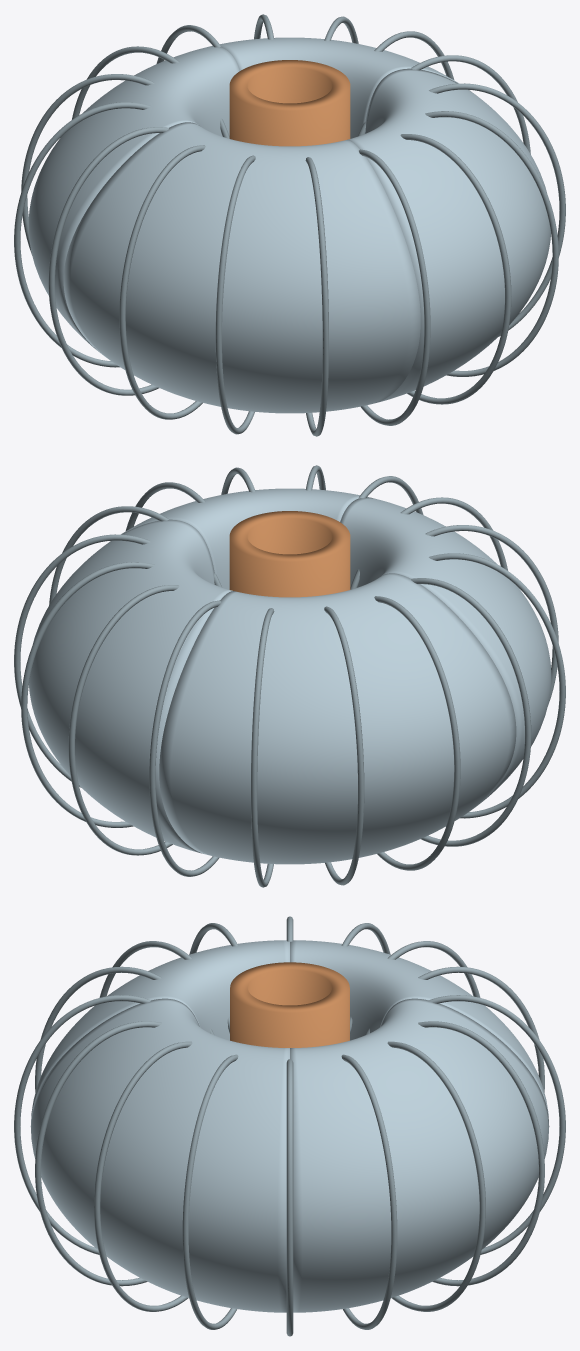
The picture shows the model from 3 angles, top to bottom: view 1: azimuth 30°, elevation 25°; view 2: azimuth 150°, elevation 25°; view 3: azimuth 270°, elevation 25°; orthographic projection.
Visible parts, largest first — view 1: vessel_Q2, vessel_Q3, vessel_Q1, solenoid, vessel_Q0, coils_08, coils_14, coils_13, coils_07, coils_09, coils_12, coils_15 (+7 smaller); view 2: vessel_Q1, vessel_Q0, vessel_Q2, solenoid, vessel_Q3, coils_08, coils_02, coils_03, coils_09, coils_07, coils_04, coils_01 (+7 smaller); view 3: vessel_Q0, vessel_Q3, solenoid, vessel_Q1, vessel_Q2, coils_03, coils_13, coils_02, coils_14, coils_04, coils_12, coils_00 (+6 smaller).
Boxes of the visible parts, box(x1,y1,x2,y2) form: vessel_Q2: box(63, 122, 420, 413); vessel_Q3: box(347, 68, 550, 402); vessel_Q1: box(28, 46, 239, 351); solenoid: box(229, 60, 350, 146); vessel_Q0: box(210, 37, 458, 138); coils_08: box(48, 127, 168, 395); coils_14: box(425, 111, 558, 376); coils_13: box(400, 134, 511, 404); coils_07: box(14, 102, 150, 367); coils_09: box(119, 145, 205, 419); coils_12: box(359, 149, 430, 425); coils_15: box(429, 83, 565, 336); vessel_Q1: box(159, 573, 516, 864); vessel_Q0: box(29, 519, 232, 853); vessel_Q2: box(340, 497, 551, 802); solenoid: box(229, 511, 350, 597); vessel_Q3: box(121, 488, 369, 589); coils_08: box(411, 578, 531, 846); coils_02: box(21, 562, 154, 827); coils_03: box(68, 585, 179, 855); coils_09: box(429, 553, 565, 818); coils_07: box(374, 596, 460, 870); coils_04: box(149, 600, 220, 876); coils_01: box(14, 534, 150, 787); vessel_Q0: box(290, 998, 549, 1312); vessel_Q3: box(30, 998, 289, 1312); solenoid: box(230, 962, 349, 1047); vessel_Q1: box(290, 940, 548, 1115); vessel_Q2: box(31, 940, 289, 1115); coils_03: box(418, 1021, 544, 1286); coils_13: box(35, 1021, 161, 1286); coils_02: box(387, 1041, 485, 1311); coils_14: box(94, 1041, 192, 1311); coils_04: box(429, 995, 565, 1254); coils_12: box(14, 995, 150, 1254); coils_00: box(286, 1059, 293, 1336).
Bounding box in the file's own units: 30.59 × 16.98 × 30.59.
